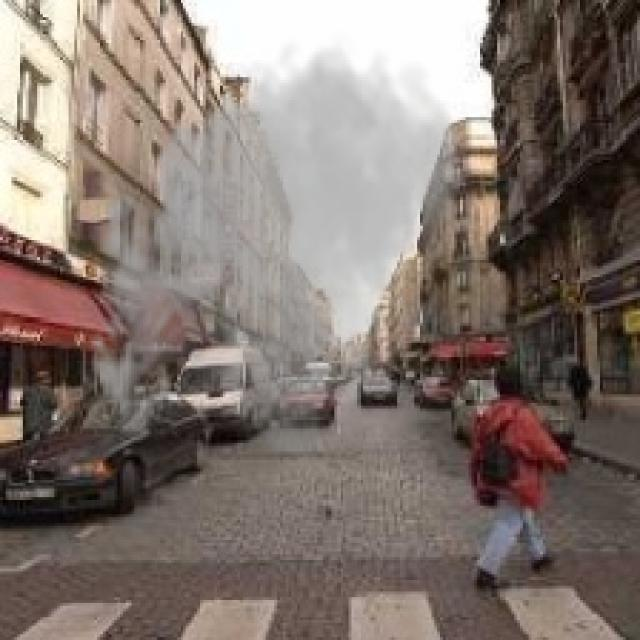smoke: (77, 32, 472, 457)
